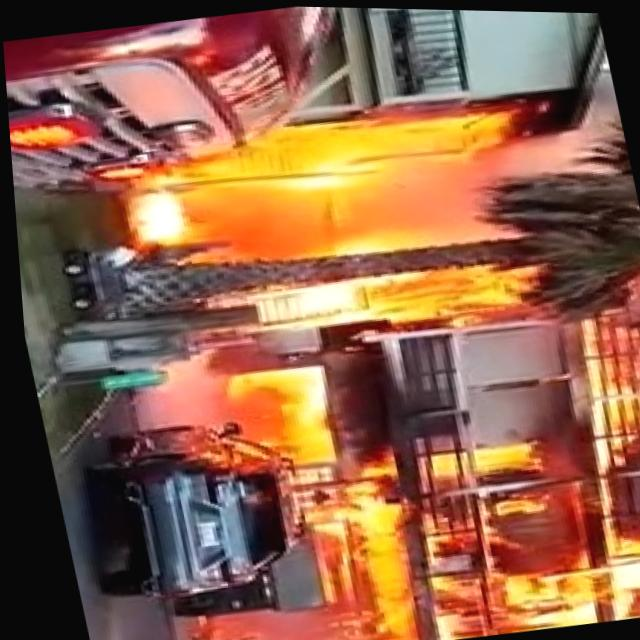fire: (134, 99, 534, 267), (433, 520, 640, 640)
